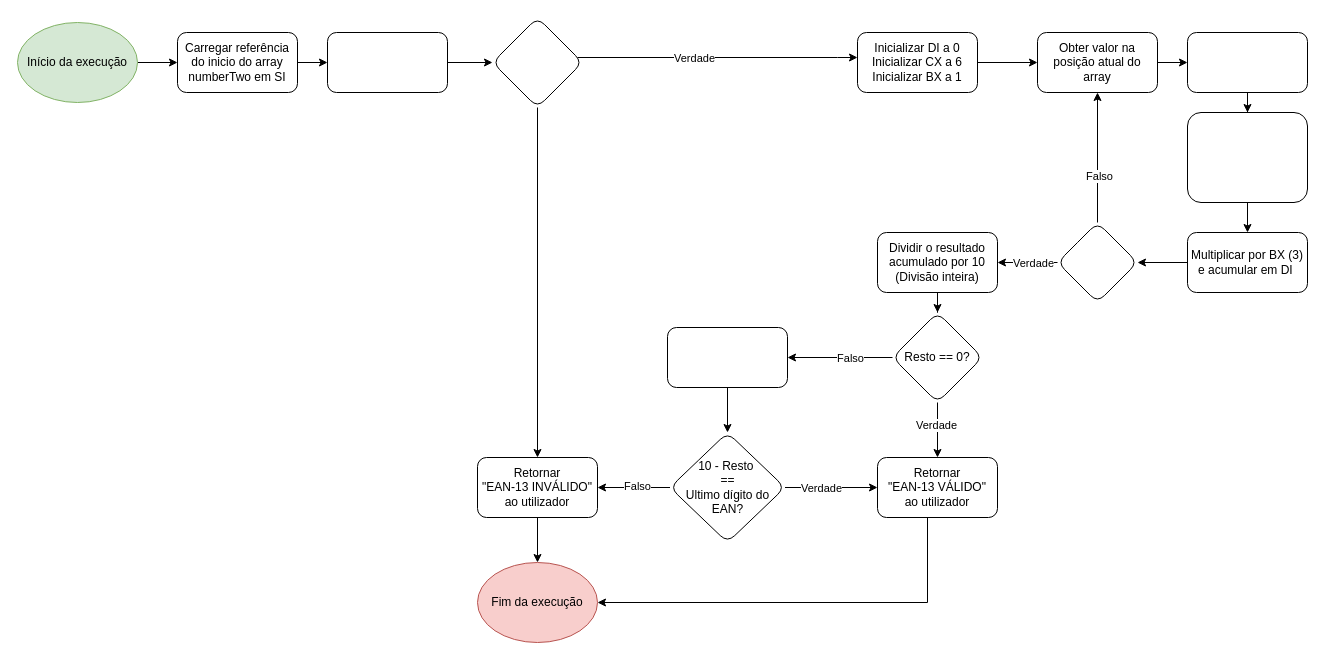
Some shapes in this 1325 by 660 pixel diagram are drawn without their labels. The centre of each missing label's shape, as x and y in pixels:
Calcular 10 - Resto: the point at 727,357
CX == 0 ?: the point at 1097,262
Incrementar SI Inicializar BX a 3 Obter valor na posição atual do array: the point at 1247,157
Multiplicar por BX (1) e acumular em DI: the point at 1247,62
Percorrer as primeiras 3 posições, verificar se são 0: the point at 387,62
Todas as posições são 0?: the point at 537,62
